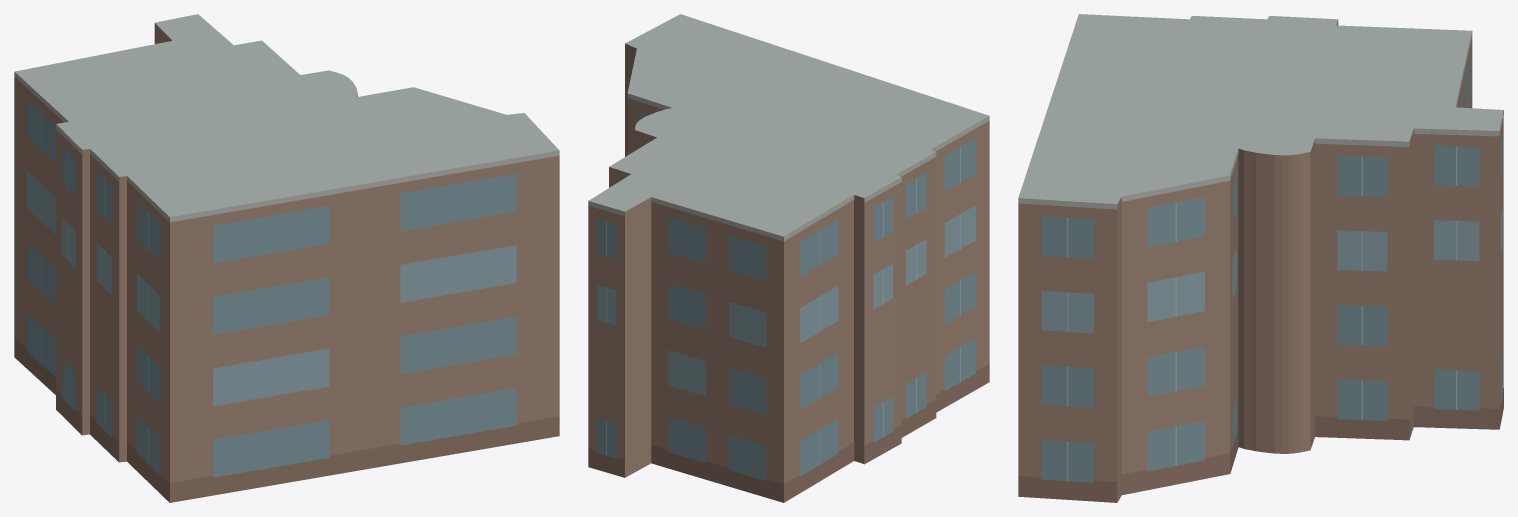
Rendered from survey-upis-32775765.glb.
3 renders of one model, left to right at view 1: azimuth 30°, elevation 25°; view 2: azimuth 150°, elevation 25°; view 3: azimuth 270°, elevation 25°, orthographic. The views are drawn at different scales.
Visible parts, largest first — view 1: survey-upis-32775765.tmp; view 2: survey-upis-32775765.tmp; view 3: survey-upis-32775765.tmp.
Part boxes in pixels (<box>): survey-upis-32775765.tmp: <box>14,14,559,502</box>; survey-upis-32775765.tmp: <box>588,14,989,502</box>; survey-upis-32775765.tmp: <box>1018,14,1503,502</box>.
Size of the model in its own units: 18.69 by 13.67 by 20.15.
